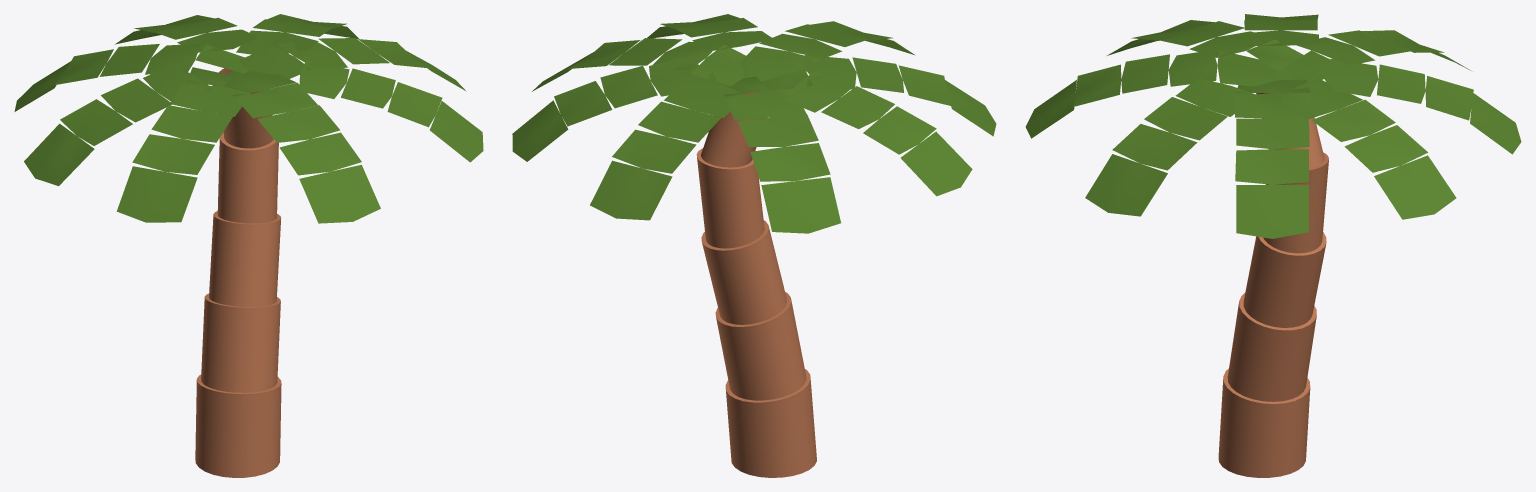
File: newpalmtree.glb
3 views of the same model, side by side, from view 1: azimuth 30°, elevation 25°; view 2: azimuth 150°, elevation 25°; view 3: azimuth 270°, elevation 25° (orthographic). The views are drawn at different scales.
Parts seen in each view (by area): view 1: Plane.005, Cylinder; view 2: Plane.005, Cylinder; view 3: Plane.005, Cylinder.
Part boxes in pixels (x1,y1,x2,y2): Plane.005: [14, 14, 483, 223]; Cylinder: [195, 68, 281, 477]; Plane.005: [512, 14, 996, 233]; Cylinder: [696, 91, 816, 477]; Plane.005: [1025, 14, 1521, 238]; Cylinder: [1218, 93, 1328, 477].
Size of the model in its own units: 11.31 by 10.06 by 11.3.
1 material, 1 textured.
